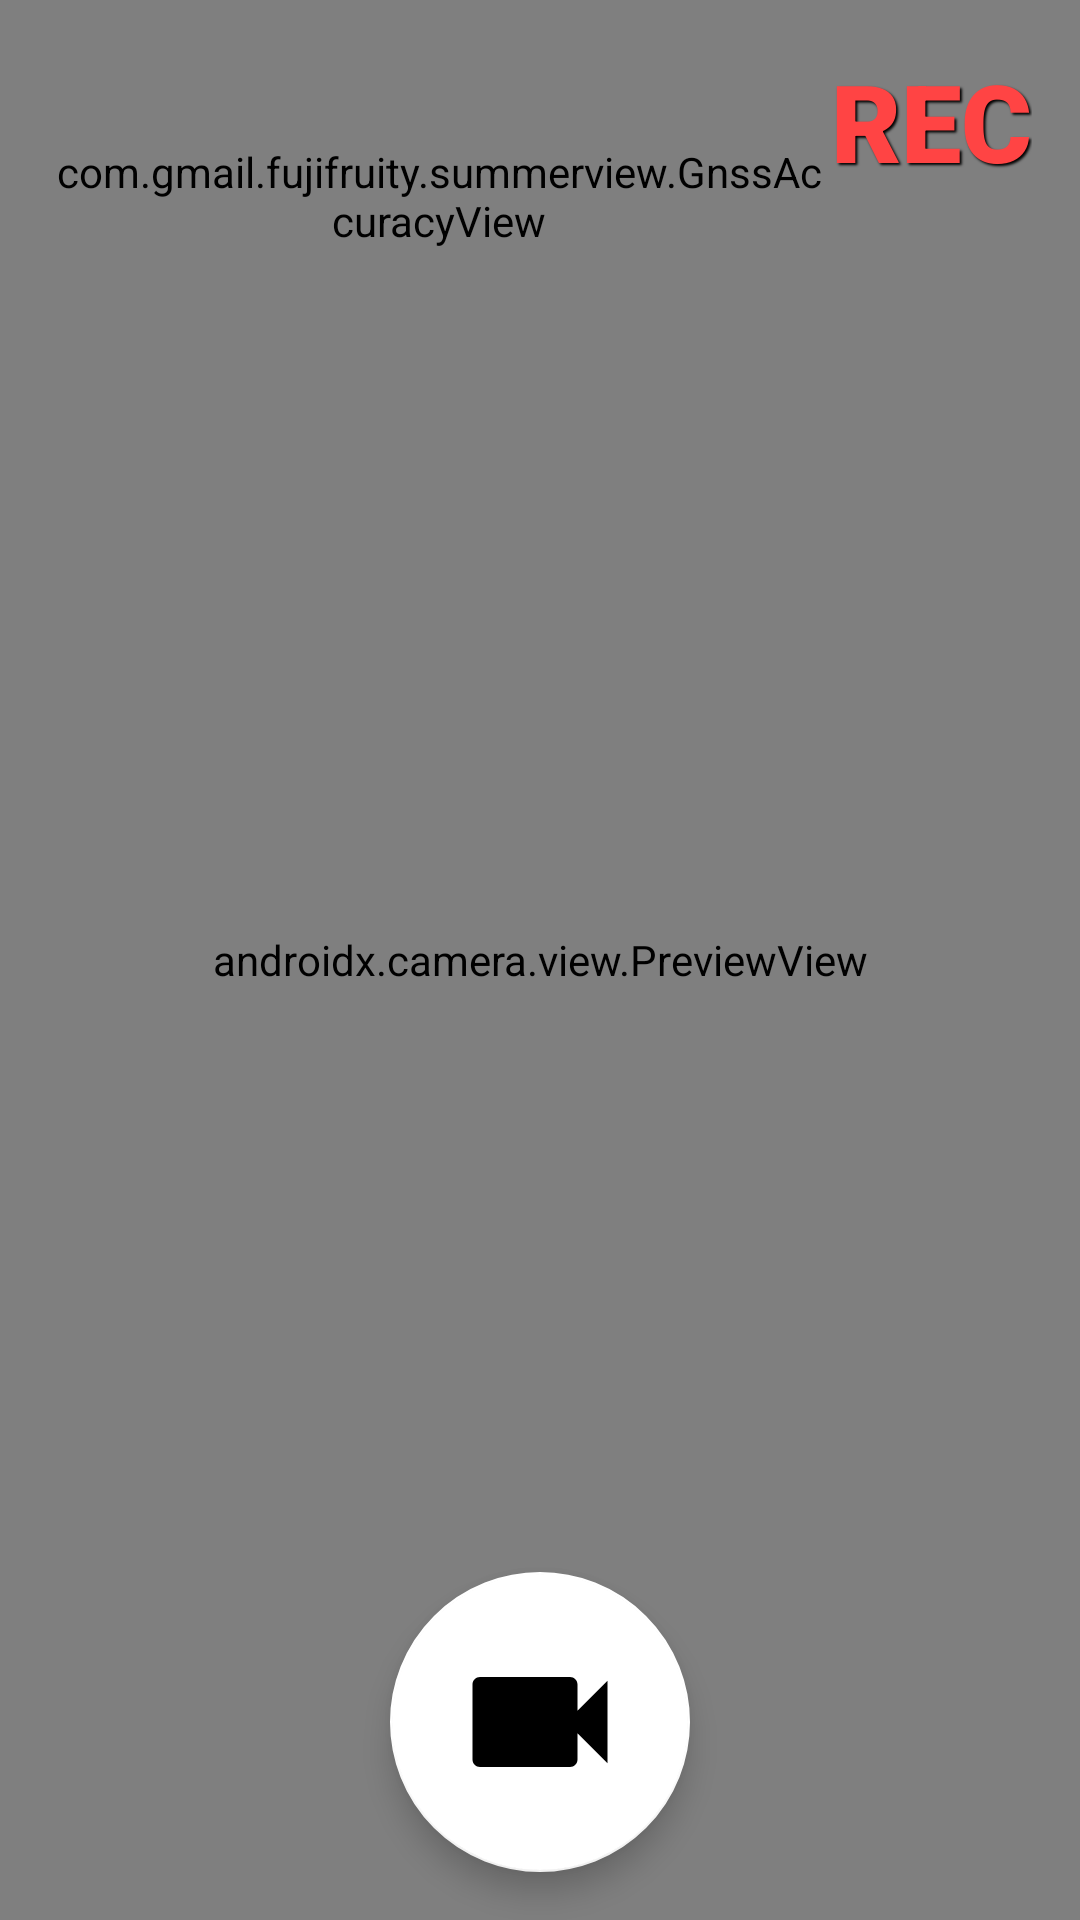

Named icons in this screenshot (1080 × 1920) and their centers, (x=x, y=y):
videocam: (x=540, y=1722)
